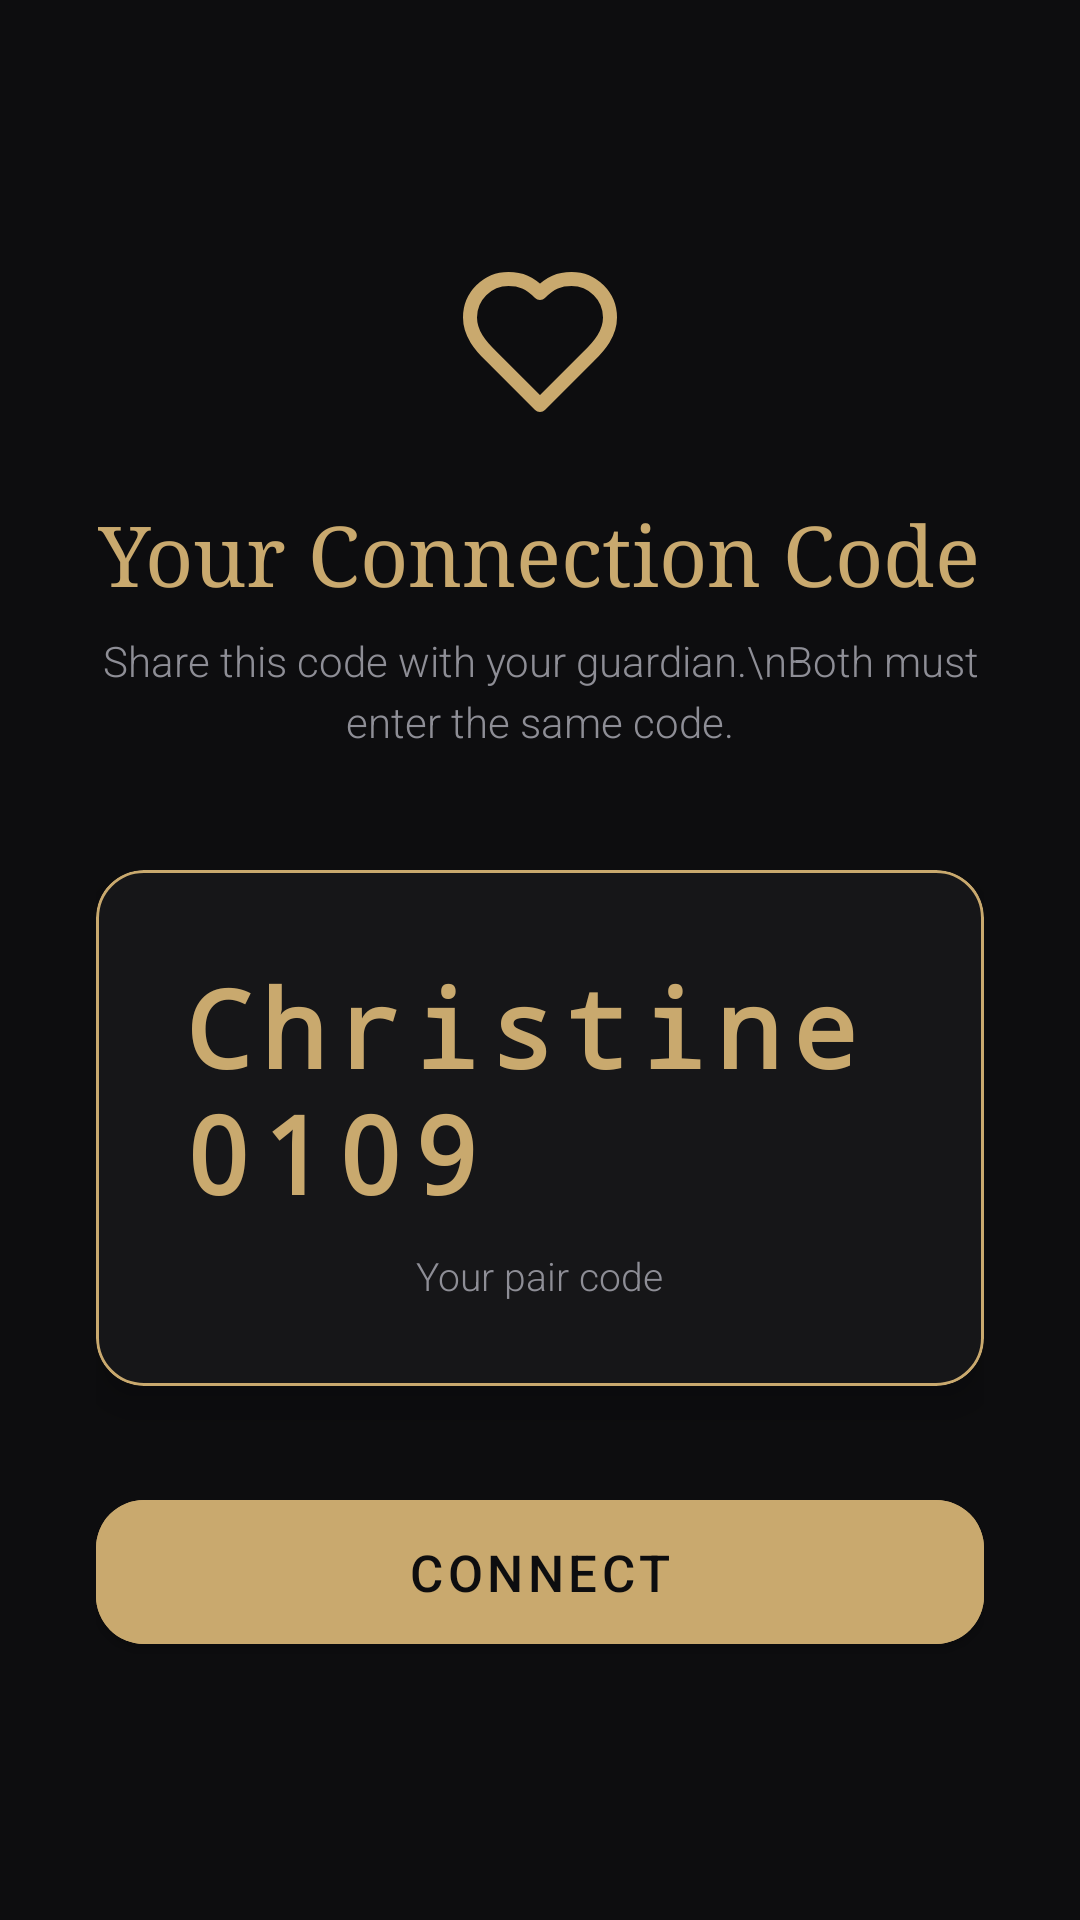

Point at icon controls on the screen. Image size 1080px x 1920px, points as point (x, y).
heart vlynxly: point (540, 342)
